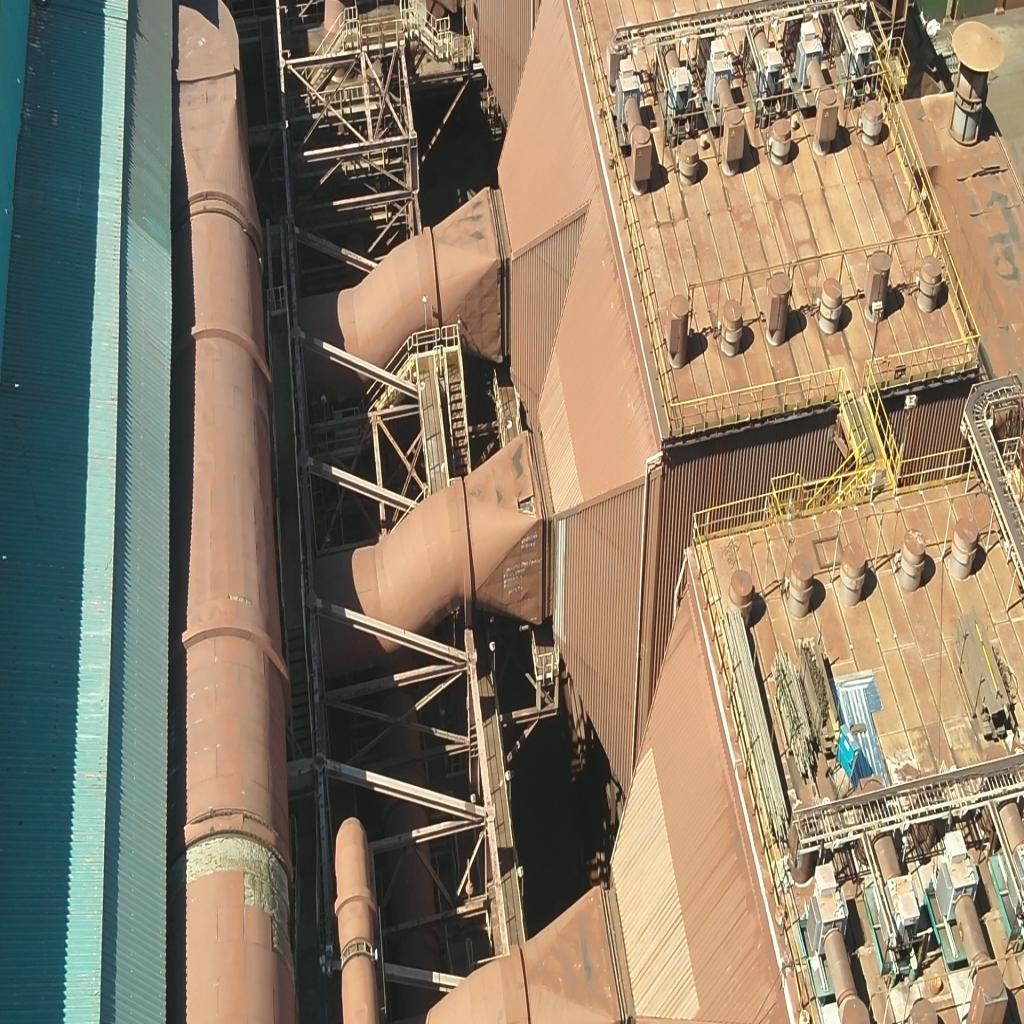Failures: (164, 826, 295, 975), (516, 484, 536, 523)
